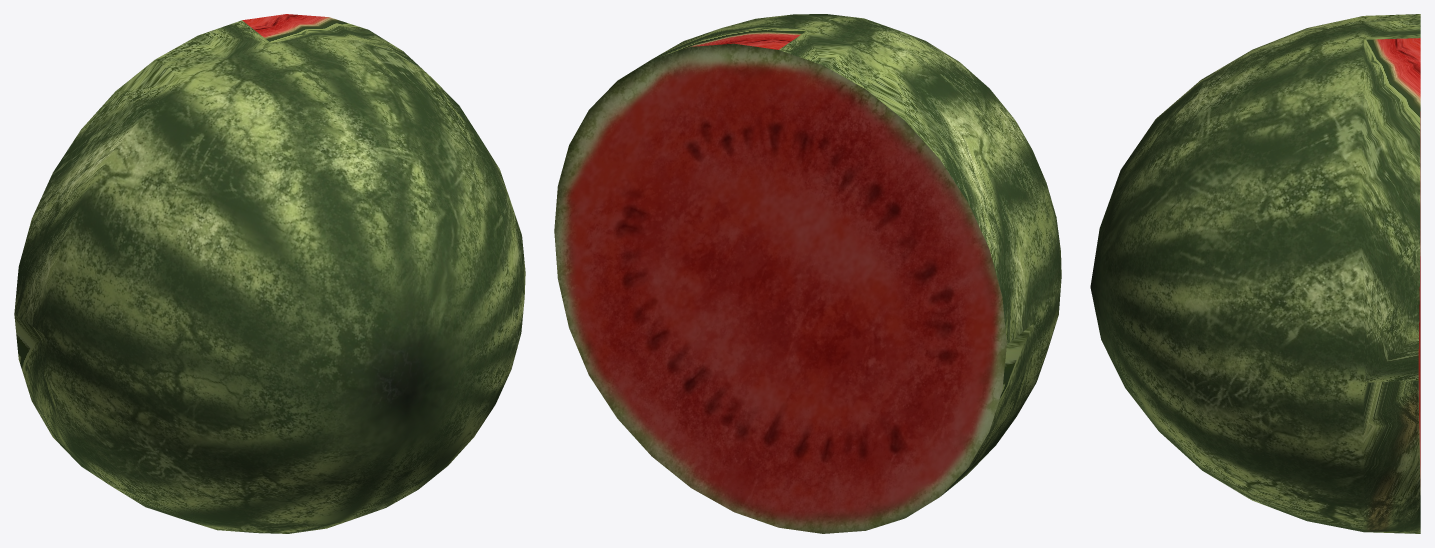
File: Watermelon.fbx
The picture shows the model from 3 angles, left to right: view 1: azimuth 30°, elevation 25°; view 2: azimuth 150°, elevation 25°; view 3: azimuth 270°, elevation 25°; orthographic projection.
Parts seen in each view (by area): view 1: Fruit_Watermelon; view 2: Fruit_Watermelon; view 3: Fruit_Watermelon.
Part boxes in pixels (x1=…): Fruit_Watermelon: x1=14, y1=14, x2=525, y2=533; Fruit_Watermelon: x1=554, y1=14, x2=1061, y2=533; Fruit_Watermelon: x1=1090, y1=14, x2=1420, y2=533.
Size of the model in its own units: 0.3983 by 0.4 by 0.2537.
1 material, 1 textured.
